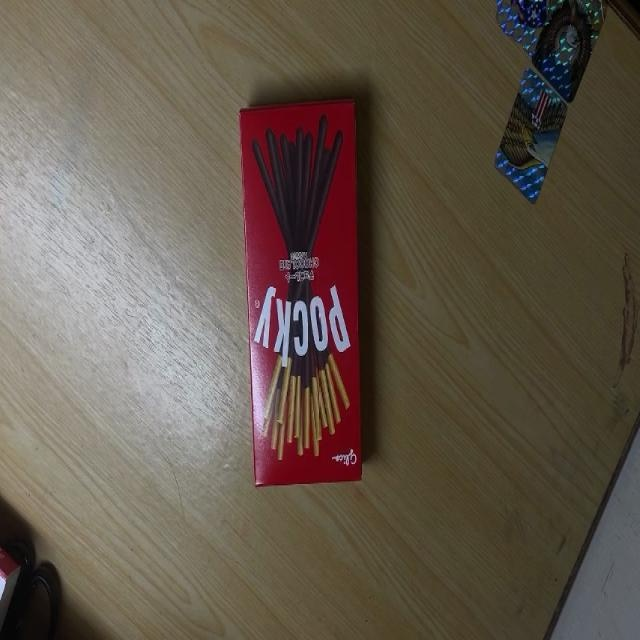Pocky: (237, 94, 363, 487)
